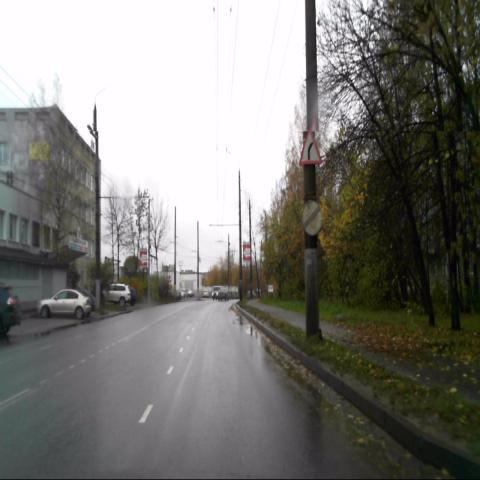1_11: (299, 128, 322, 165)
3_31: (302, 200, 322, 234)
